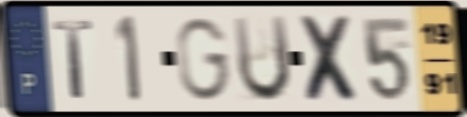1: (113, 13, 144, 105)
5: (359, 14, 415, 103)
G: (174, 14, 234, 103)
T: (50, 17, 97, 101)
U: (229, 12, 294, 106)
X: (295, 12, 366, 106)
